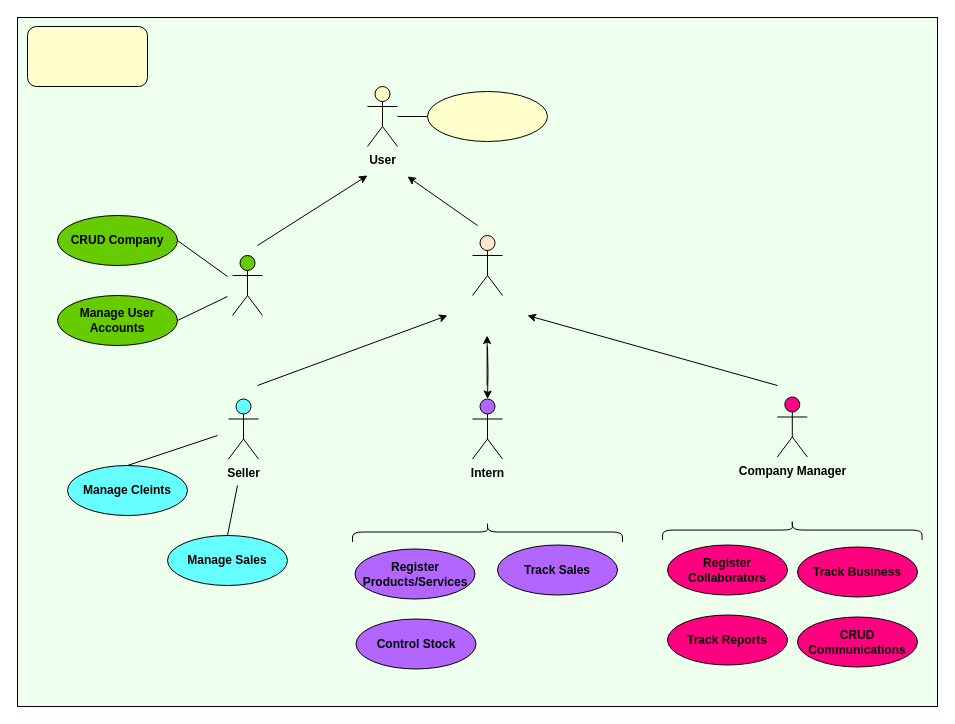
This 955x724 diagram has some shape labels left out. Each missing label, with the centre of its shape:
"Collaborator" belongs at point (487, 265).
"Log in" belongs at point (487, 116).
"System Admin" belongs at point (247, 285).
"Use Cases" belongs at point (87, 56).
